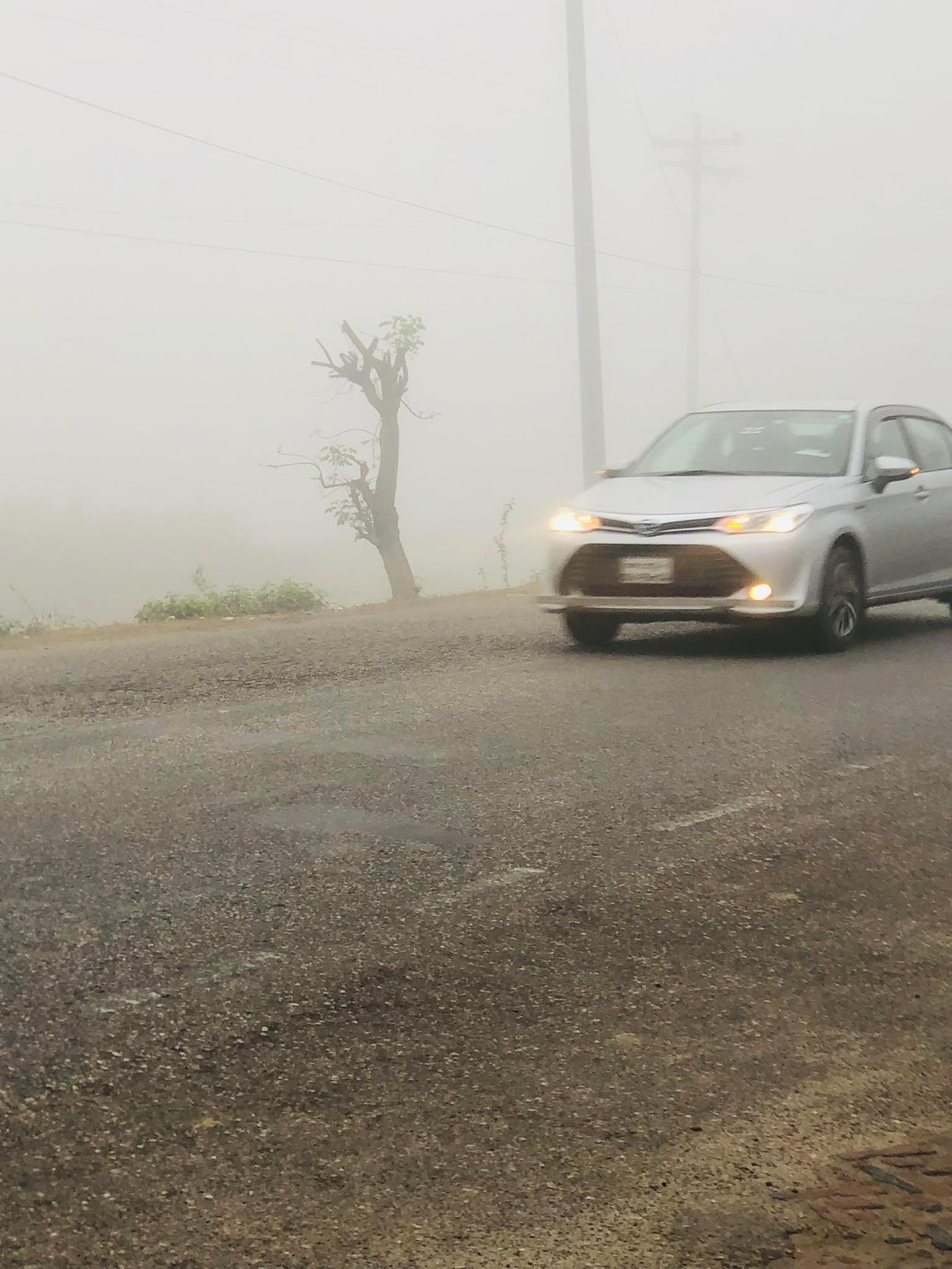Car: (508, 371, 952, 658)
